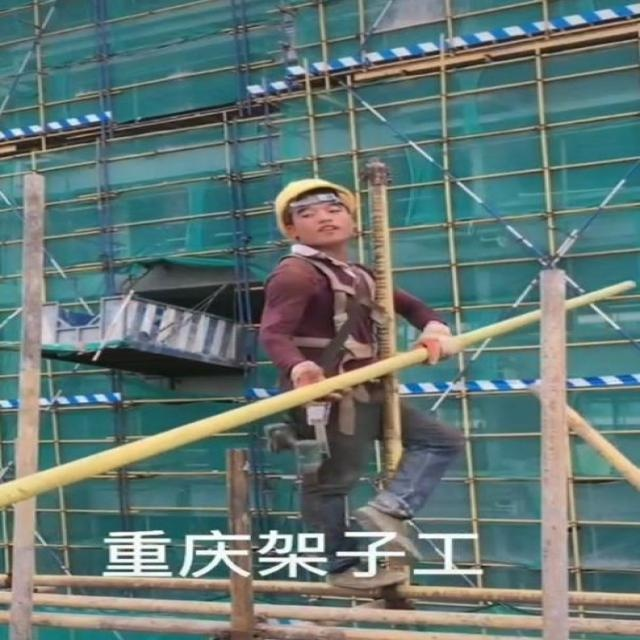Arnes_seguridad: (254, 244, 411, 399)
